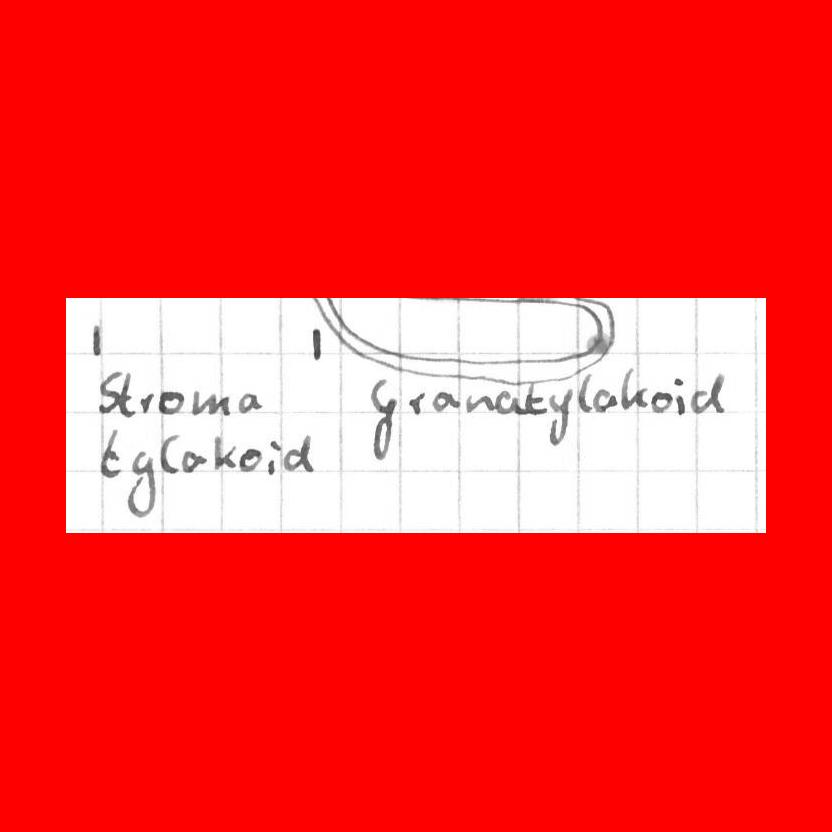Char: (368, 379, 396, 463), (126, 449, 156, 517), (97, 368, 132, 416), (690, 370, 725, 415), (546, 387, 570, 447), (284, 432, 313, 474), (619, 366, 646, 411), (98, 428, 121, 479), (193, 387, 229, 419), (158, 433, 179, 476), (213, 434, 237, 471), (578, 370, 596, 414), (591, 386, 617, 415), (158, 390, 184, 415), (495, 390, 520, 414), (238, 391, 264, 414), (181, 451, 209, 472), (464, 393, 493, 413), (523, 388, 546, 413), (673, 375, 687, 416), (240, 447, 262, 472), (265, 437, 280, 472), (650, 390, 672, 413), (433, 391, 457, 412), (310, 325, 324, 360), (90, 323, 103, 356), (407, 392, 426, 414), (138, 391, 153, 414)
